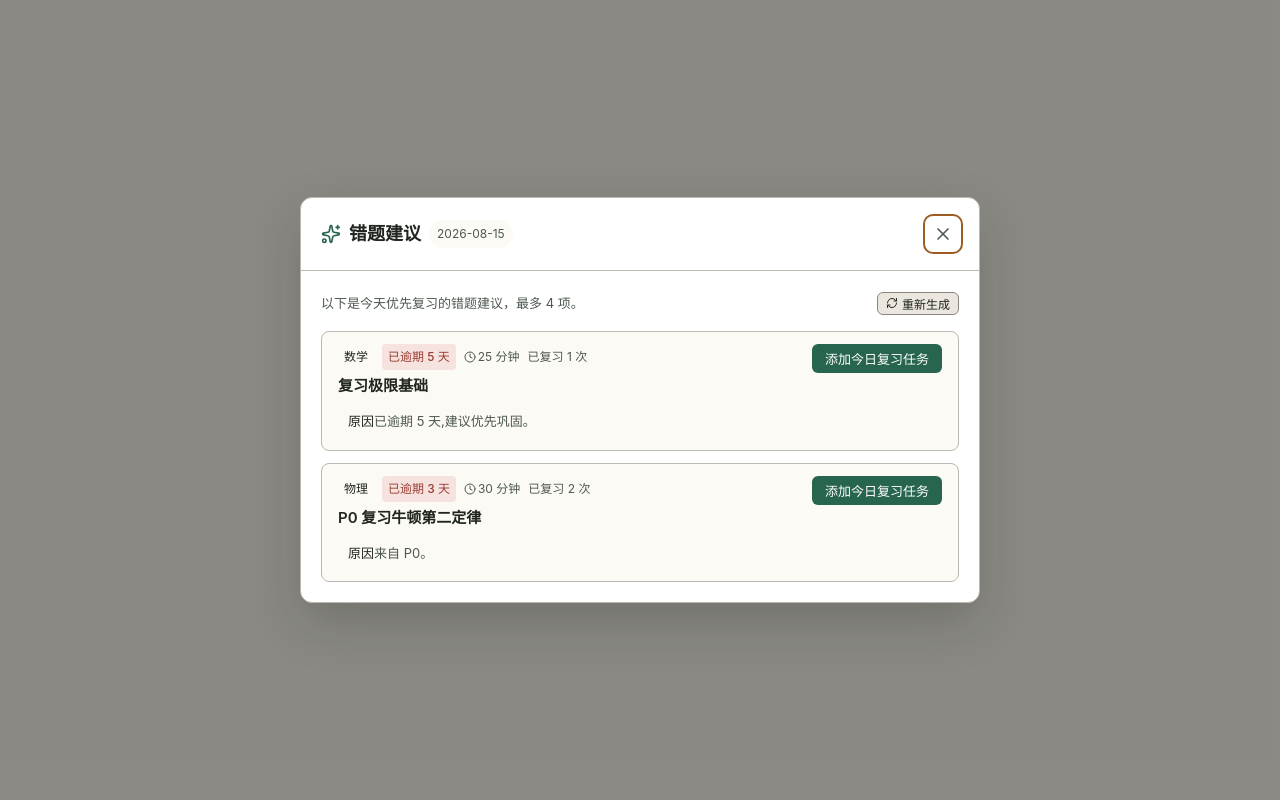
Test: MistakeReviewAgentDialog Component › consumes a definitively rejected generation instead of re-enabling its old candidates
Expected: the element with test id "mistake-review-candidate-list" is shown, [321,291,959,582]
Click the button with test id "mistake-review-confirm-btn-0". click: click(877, 358)
box: [812,344,942,373]
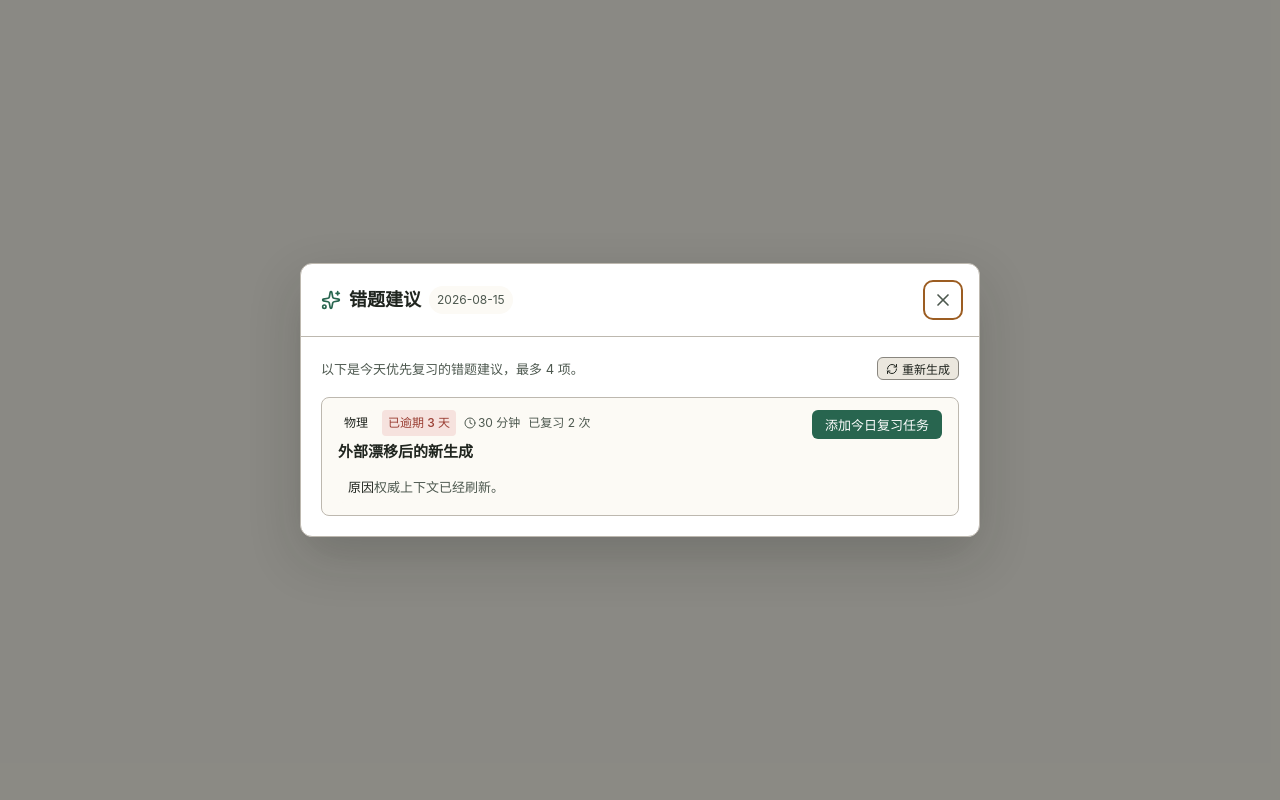
Expected: the button with test id "mistake-review-confirm-btn-0" is enabled, [812,410,942,439]
Expected: the heading "外部漂移后的新生成" is shown, [338,442,473,461]
Expected: the heading "复习极限基础" is gone
